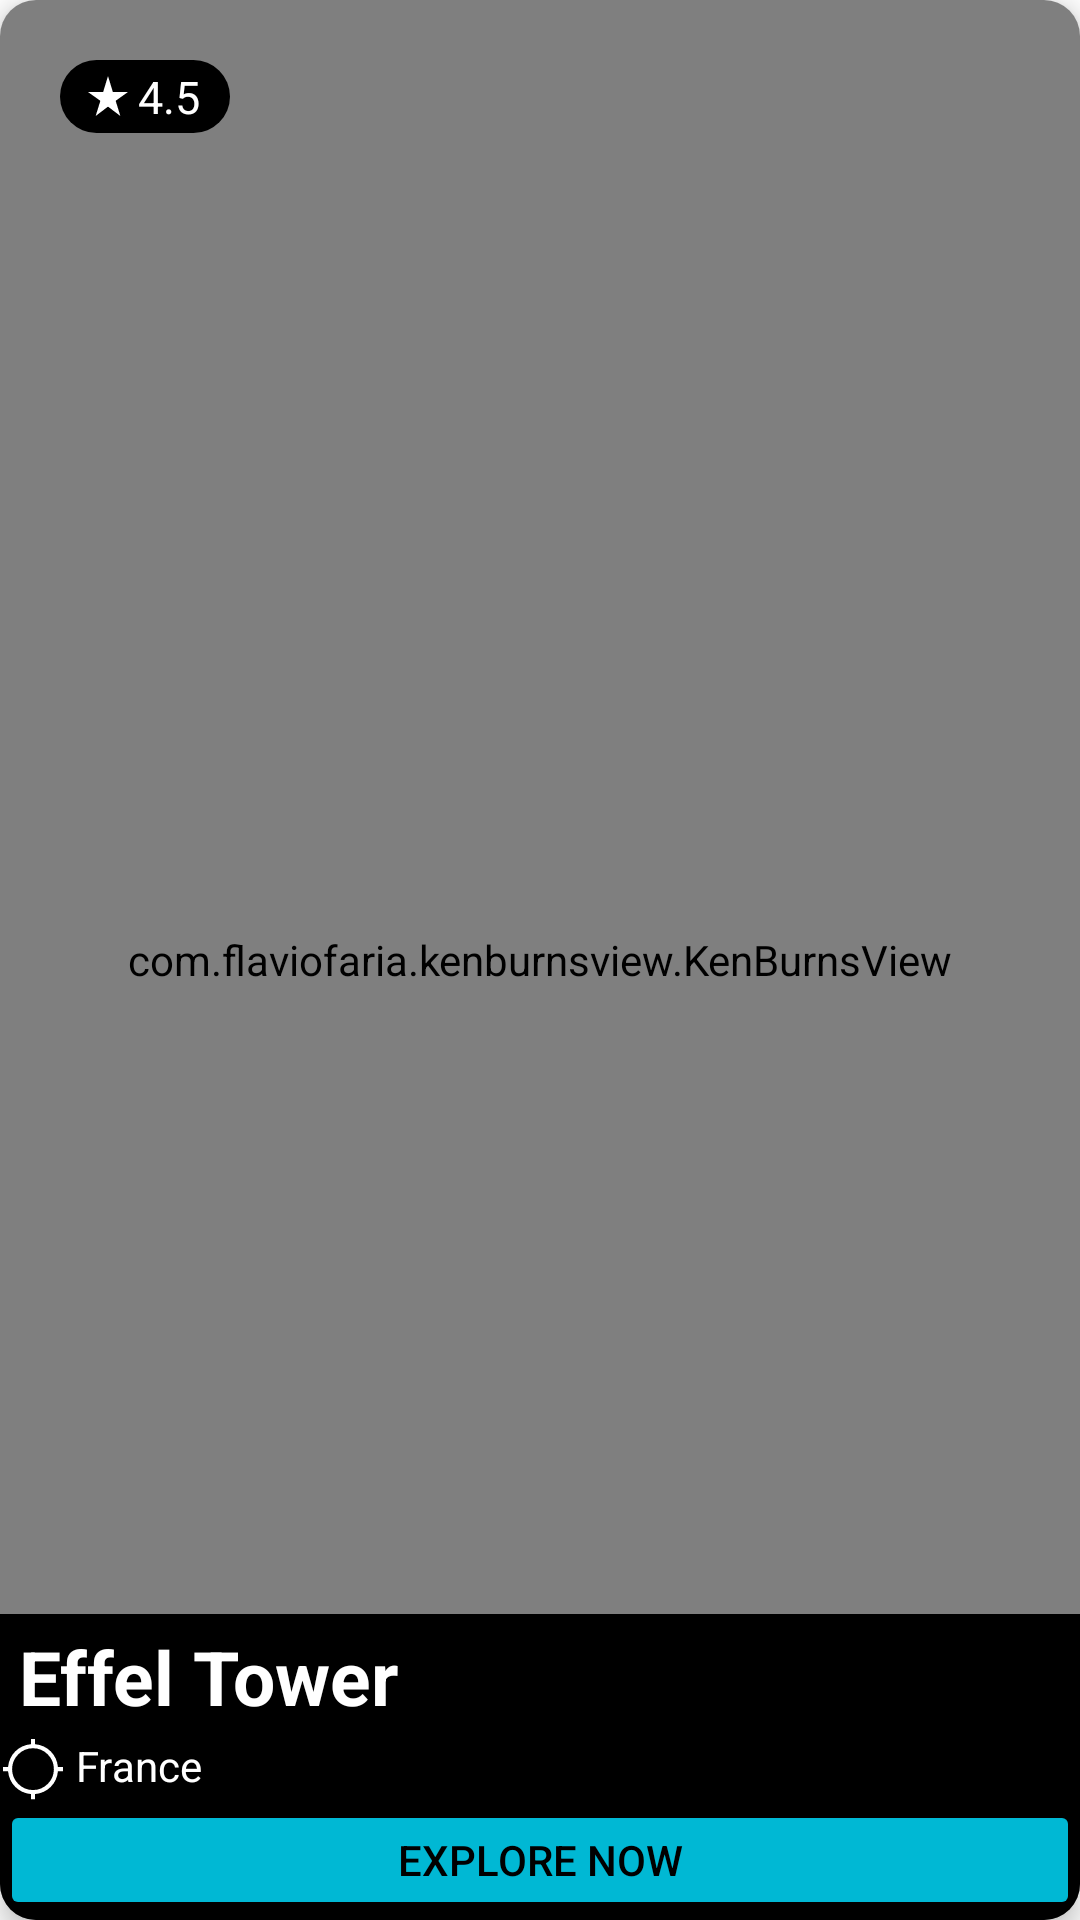

Screen size 1080 x 1920. Icon name, then its center in pixels as (x=x, y=y):
starrate: (x=108, y=96)
